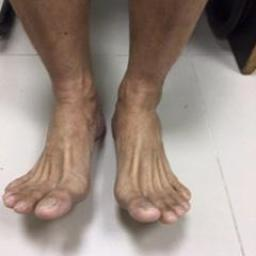Front View -Both Feet-: (2, 45, 200, 238)
